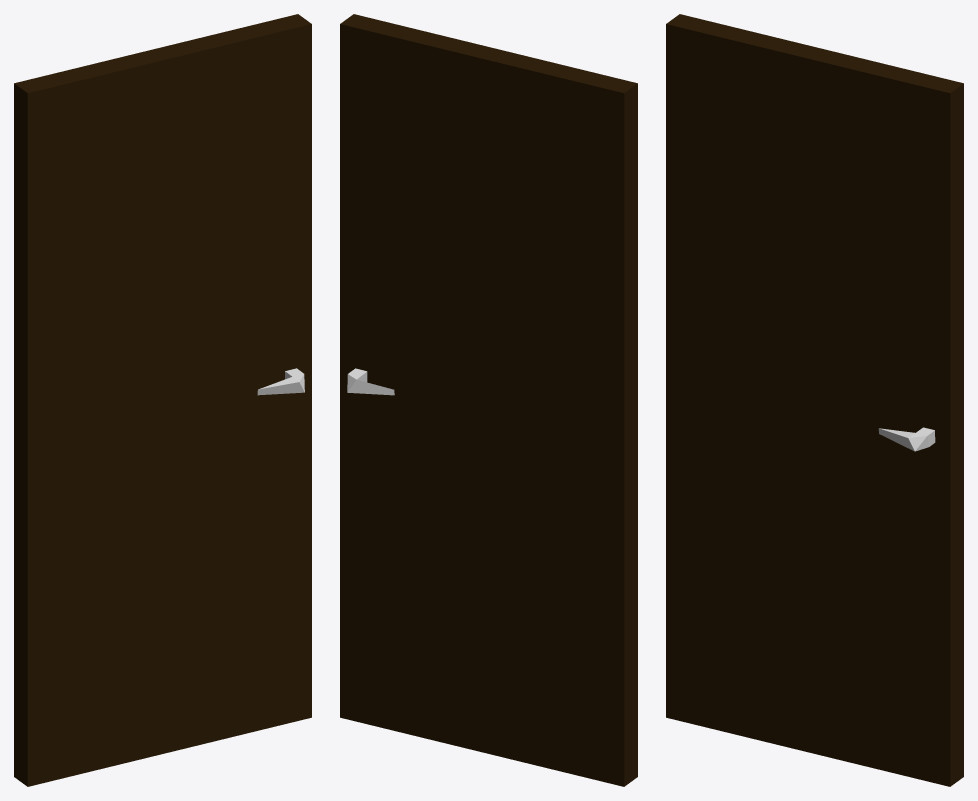
Rendered from Wood Door - Steel Handle.glb.
The picture shows the model from 3 angles, left to right: view 1: azimuth 30°, elevation 25°; view 2: azimuth 150°, elevation 25°; view 3: azimuth 330°, elevation 25°; orthographic projection.
Visible parts, largest first — view 1: Door, Handle; view 2: Door, Handle; view 3: Door, Handle.
Boxes of the visible parts, box(x1,y1,x2,y2) form: Door: box(14, 14, 311, 786); Handle: box(257, 368, 304, 395); Door: box(340, 14, 637, 786); Handle: box(347, 368, 394, 395); Door: box(666, 14, 963, 786); Handle: box(878, 427, 935, 451).
Size of the model in its own units: 0.9144 by 2.13 by 0.2379.
